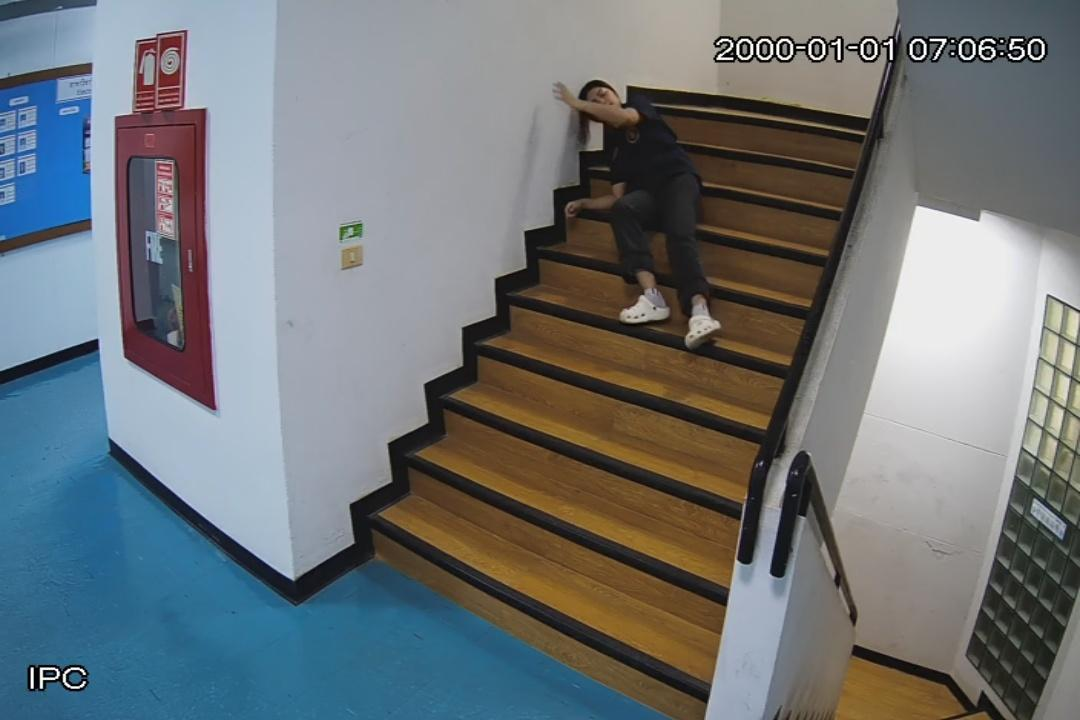fall: (552, 68, 726, 346)
